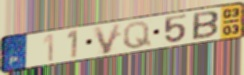1: (43, 32, 56, 63), (66, 29, 79, 59)
5: (163, 14, 189, 44)
B: (191, 10, 221, 42)
Q: (122, 20, 154, 50)
V: (92, 21, 124, 56)
